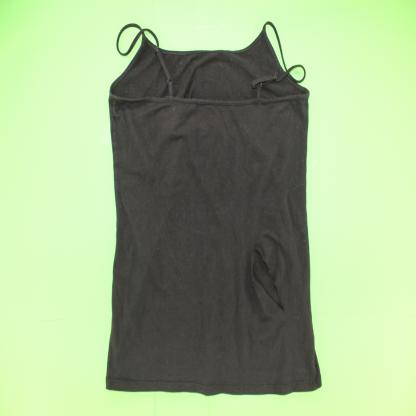hole: (250, 245, 286, 314)
